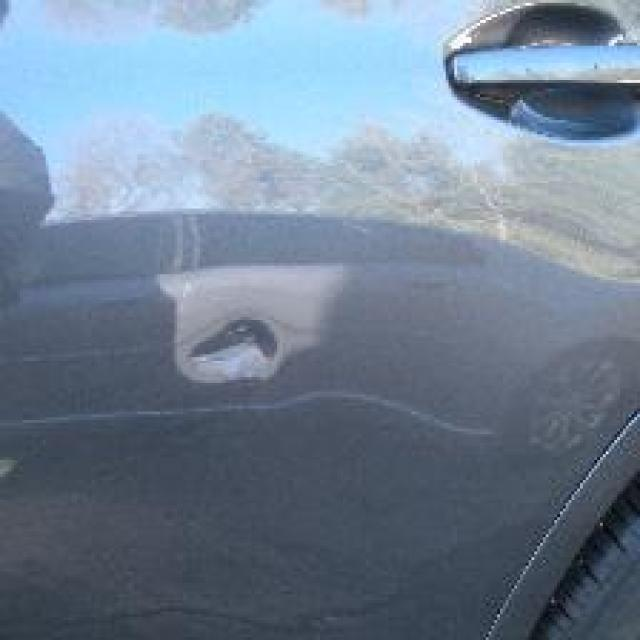damaged: (6, 391, 500, 446), (175, 308, 292, 386)
